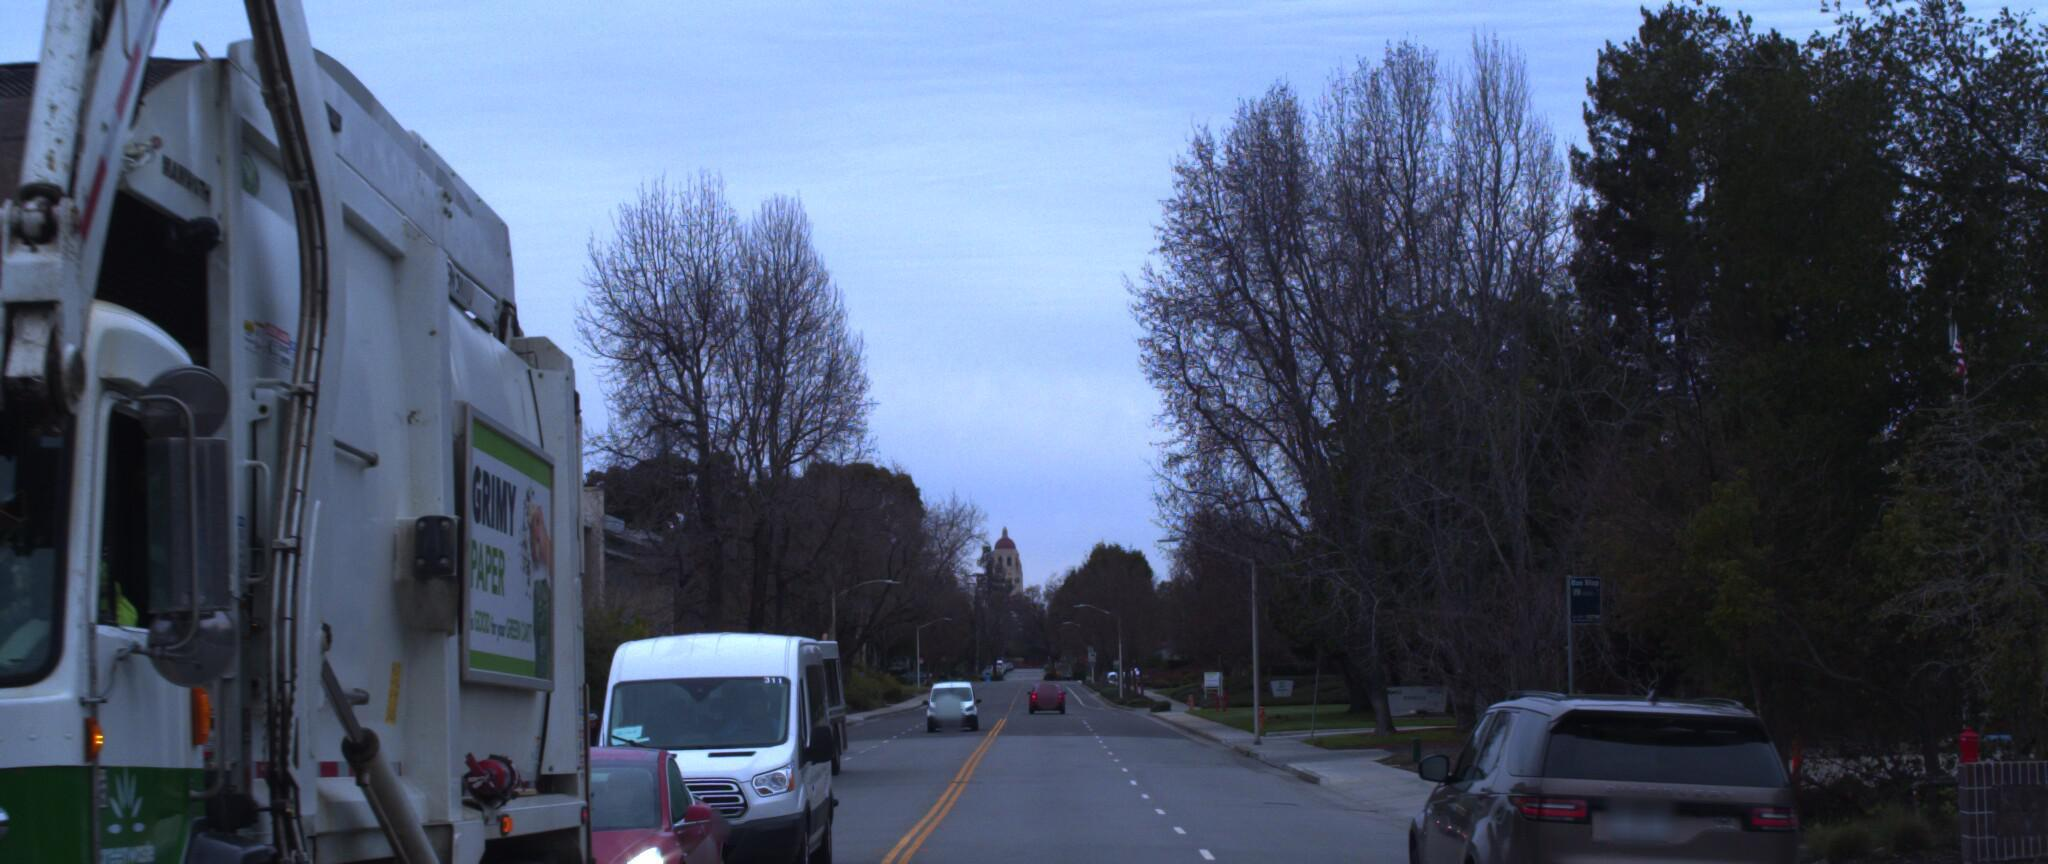bus: (630, 619, 852, 787)
car: (1378, 683, 1839, 864), (552, 625, 831, 864), (364, 739, 721, 864)
truck: (0, 0, 647, 864)
